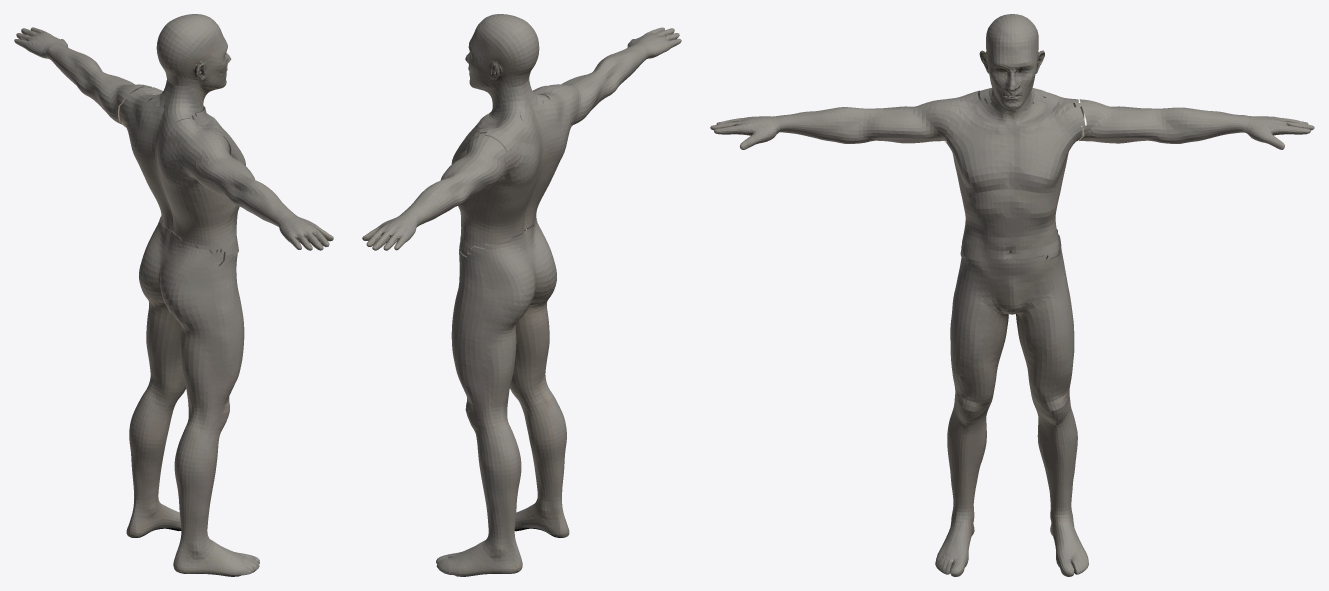
Rendered from avatar.glb.
The picture shows the model from 3 angles, left to right: view 1: azimuth 30°, elevation 25°; view 2: azimuth 150°, elevation 25°; view 3: azimuth 270°, elevation 25°; orthographic projection.
Parts seen in each view (by area): view 1: tripo_node_dcd822c2-1d34-448f-a3f8-84c45d5c1dbf.007, tripo_node_dcd822c2-1d34-448f-a3f8-84c45d5c1dbf.008, tripo_node_dcd822c2-1d34-448f-a3f8-84c45d5c1dbf.009, tripo_node_dcd822c2-1d34-448f-a3f8-84c45d5c1dbf.011, tripo_node_dcd822c2-1d34-448f-a3f8-84c45d5c1dbf.012, tripo_node_dcd822c2-1d34-448f-a3f8-84c45d5c1dbf.001, tripo_node_dcd822c2-1d34-448f-a3f8-84c45d5c1dbf.010, tripo_node_dcd822c2-1d34-448f-a3f8-84c45d5c1dbf.006, tripo_node_dcd822c2-1d34-448f-a3f8-84c45d5c1dbf.003, tripo_node_dcd822c2-1d34-448f-a3f8-84c45d5c1dbf.005, tripo_node_dcd822c2-1d34-448f-a3f8-84c45d5c1dbf.004, tripo_node_dcd822c2-1d34-448f-a3f8-84c45d5c1dbf.002; view 2: tripo_node_dcd822c2-1d34-448f-a3f8-84c45d5c1dbf.007, tripo_node_dcd822c2-1d34-448f-a3f8-84c45d5c1dbf.008, tripo_node_dcd822c2-1d34-448f-a3f8-84c45d5c1dbf.010, tripo_node_dcd822c2-1d34-448f-a3f8-84c45d5c1dbf.012, tripo_node_dcd822c2-1d34-448f-a3f8-84c45d5c1dbf.011, tripo_node_dcd822c2-1d34-448f-a3f8-84c45d5c1dbf.001, tripo_node_dcd822c2-1d34-448f-a3f8-84c45d5c1dbf.009, tripo_node_dcd822c2-1d34-448f-a3f8-84c45d5c1dbf.005, tripo_node_dcd822c2-1d34-448f-a3f8-84c45d5c1dbf.004, tripo_node_dcd822c2-1d34-448f-a3f8-84c45d5c1dbf.006, tripo_node_dcd822c2-1d34-448f-a3f8-84c45d5c1dbf.003, tripo_node_dcd822c2-1d34-448f-a3f8-84c45d5c1dbf.002; view 3: tripo_node_dcd822c2-1d34-448f-a3f8-84c45d5c1dbf.007, tripo_node_dcd822c2-1d34-448f-a3f8-84c45d5c1dbf.008, tripo_node_dcd822c2-1d34-448f-a3f8-84c45d5c1dbf.009, tripo_node_dcd822c2-1d34-448f-a3f8-84c45d5c1dbf.010, tripo_node_dcd822c2-1d34-448f-a3f8-84c45d5c1dbf.011, tripo_node_dcd822c2-1d34-448f-a3f8-84c45d5c1dbf.012, tripo_node_dcd822c2-1d34-448f-a3f8-84c45d5c1dbf.001, tripo_node_dcd822c2-1d34-448f-a3f8-84c45d5c1dbf.006, tripo_node_dcd822c2-1d34-448f-a3f8-84c45d5c1dbf.005, tripo_node_dcd822c2-1d34-448f-a3f8-84c45d5c1dbf.003, tripo_node_dcd822c2-1d34-448f-a3f8-84c45d5c1dbf.004.
Part boxes in pixels (x1=…): tripo_node_dcd822c2-1d34-448f-a3f8-84c45d5c1dbf.007: x1=119, y1=86, x2=245, y2=266; tripo_node_dcd822c2-1d34-448f-a3f8-84c45d5c1dbf.008: x1=139, y1=216, x2=239, y2=321; tripo_node_dcd822c2-1d34-448f-a3f8-84c45d5c1dbf.009: x1=178, y1=299, x2=244, y2=430; tripo_node_dcd822c2-1d34-448f-a3f8-84c45d5c1dbf.011: x1=173, y1=423, x2=259, y2=576; tripo_node_dcd822c2-1d34-448f-a3f8-84c45d5c1dbf.012: x1=126, y1=65, x2=204, y2=539; tripo_node_dcd822c2-1d34-448f-a3f8-84c45d5c1dbf.001: x1=156, y1=14, x2=231, y2=90; tripo_node_dcd822c2-1d34-448f-a3f8-84c45d5c1dbf.010: x1=141, y1=296, x2=186, y2=406; tripo_node_dcd822c2-1d34-448f-a3f8-84c45d5c1dbf.006: x1=233, y1=177, x2=333, y2=250; tripo_node_dcd822c2-1d34-448f-a3f8-84c45d5c1dbf.003: x1=182, y1=134, x2=254, y2=205; tripo_node_dcd822c2-1d34-448f-a3f8-84c45d5c1dbf.005: x1=14, y1=27, x2=101, y2=87; tripo_node_dcd822c2-1d34-448f-a3f8-84c45d5c1dbf.004: x1=78, y1=64, x2=156, y2=127; tripo_node_dcd822c2-1d34-448f-a3f8-84c45d5c1dbf.002: x1=146, y1=70, x2=226, y2=122; tripo_node_dcd822c2-1d34-448f-a3f8-84c45d5c1dbf.007: x1=451, y1=85, x2=574, y2=256; tripo_node_dcd822c2-1d34-448f-a3f8-84c45d5c1dbf.008: x1=455, y1=220, x2=556, y2=319; tripo_node_dcd822c2-1d34-448f-a3f8-84c45d5c1dbf.010: x1=451, y1=302, x2=521, y2=435; tripo_node_dcd822c2-1d34-448f-a3f8-84c45d5c1dbf.012: x1=436, y1=283, x2=535, y2=576; tripo_node_dcd822c2-1d34-448f-a3f8-84c45d5c1dbf.011: x1=513, y1=392, x2=569, y2=537; tripo_node_dcd822c2-1d34-448f-a3f8-84c45d5c1dbf.001: x1=465, y1=14, x2=539, y2=90; tripo_node_dcd822c2-1d34-448f-a3f8-84c45d5c1dbf.009: x1=510, y1=294, x2=550, y2=404; tripo_node_dcd822c2-1d34-448f-a3f8-84c45d5c1dbf.005: x1=362, y1=179, x2=459, y2=250; tripo_node_dcd822c2-1d34-448f-a3f8-84c45d5c1dbf.004: x1=440, y1=133, x2=506, y2=205; tripo_node_dcd822c2-1d34-448f-a3f8-84c45d5c1dbf.006: x1=594, y1=27, x2=681, y2=90; tripo_node_dcd822c2-1d34-448f-a3f8-84c45d5c1dbf.003: x1=541, y1=66, x2=615, y2=126; tripo_node_dcd822c2-1d34-448f-a3f8-84c45d5c1dbf.002: x1=482, y1=70, x2=550, y2=121; tripo_node_dcd822c2-1d34-448f-a3f8-84c45d5c1dbf.007: x1=945, y1=90, x2=1085, y2=260; tripo_node_dcd822c2-1d34-448f-a3f8-84c45d5c1dbf.008: x1=954, y1=229, x2=1070, y2=315; tripo_node_dcd822c2-1d34-448f-a3f8-84c45d5c1dbf.009: x1=950, y1=294, x2=1018, y2=419; tripo_node_dcd822c2-1d34-448f-a3f8-84c45d5c1dbf.010: x1=1016, y1=298, x2=1074, y2=422; tripo_node_dcd822c2-1d34-448f-a3f8-84c45d5c1dbf.011: x1=935, y1=407, x2=987, y2=576; tripo_node_dcd822c2-1d34-448f-a3f8-84c45d5c1dbf.012: x1=950, y1=408, x2=1088, y2=576; tripo_node_dcd822c2-1d34-448f-a3f8-84c45d5c1dbf.001: x1=979, y1=14, x2=1044, y2=109; tripo_node_dcd822c2-1d34-448f-a3f8-84c45d5c1dbf.006: x1=710, y1=107, x2=864, y2=149; tripo_node_dcd822c2-1d34-448f-a3f8-84c45d5c1dbf.005: x1=1161, y1=107, x2=1314, y2=149; tripo_node_dcd822c2-1d34-448f-a3f8-84c45d5c1dbf.003: x1=859, y1=99, x2=950, y2=143; tripo_node_dcd822c2-1d34-448f-a3f8-84c45d5c1dbf.004: x1=1075, y1=99, x2=1170, y2=143.
Size of the model in its own units: 0.1611 by 0.9758 by 0.9867.
1 material, 1 textured.
